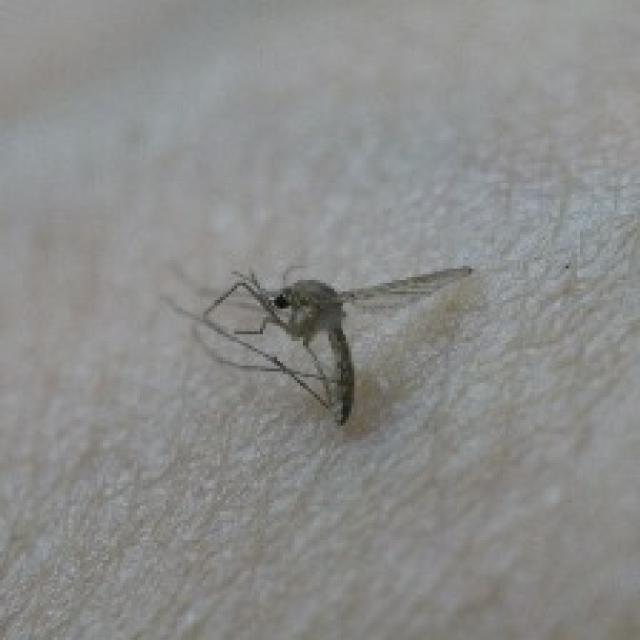culex: (160, 257, 474, 426)
